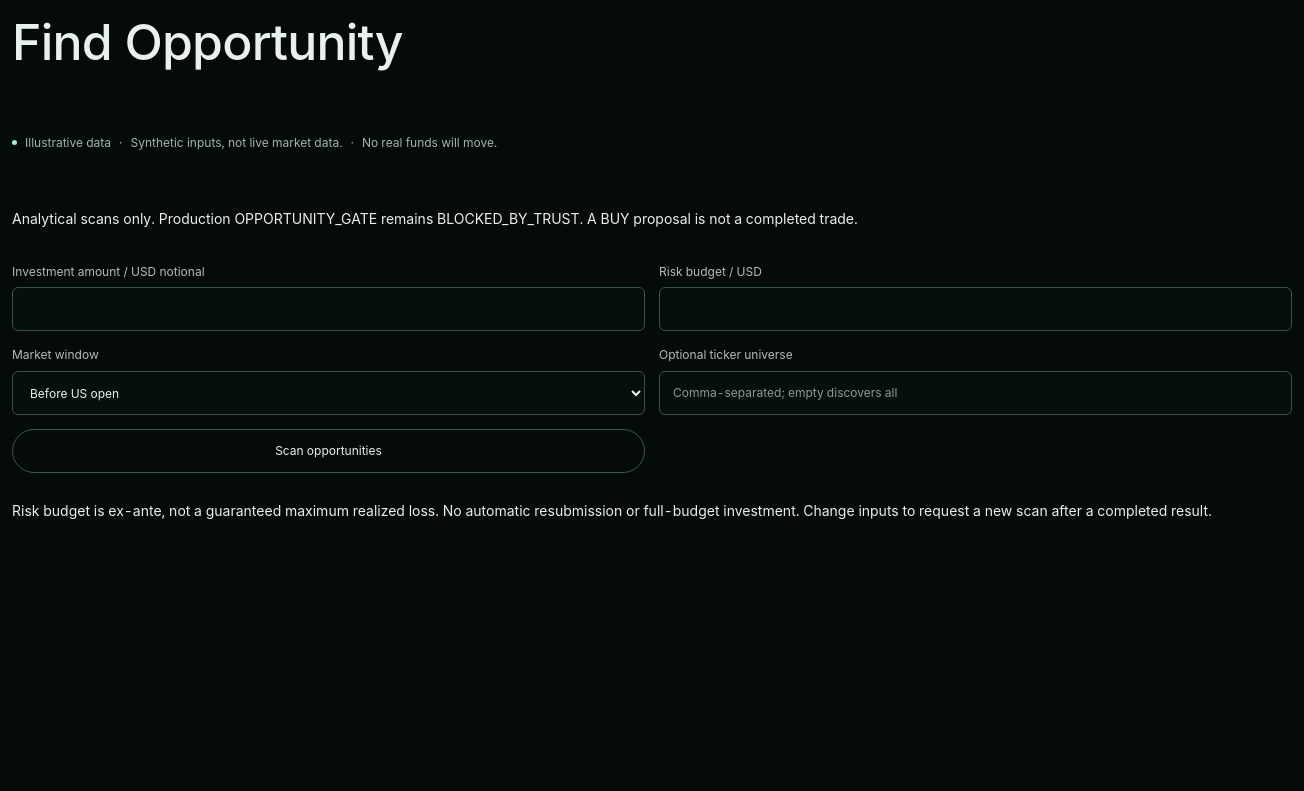
Test case: Phase 15 backend-authoritative pages › retains a scan identity on uncertain retry and prevents double click submission
Type "100" into the field labelled "Investment amount / USD notional".
click(328, 309); type("100")  # box 12,287 -> 645,331
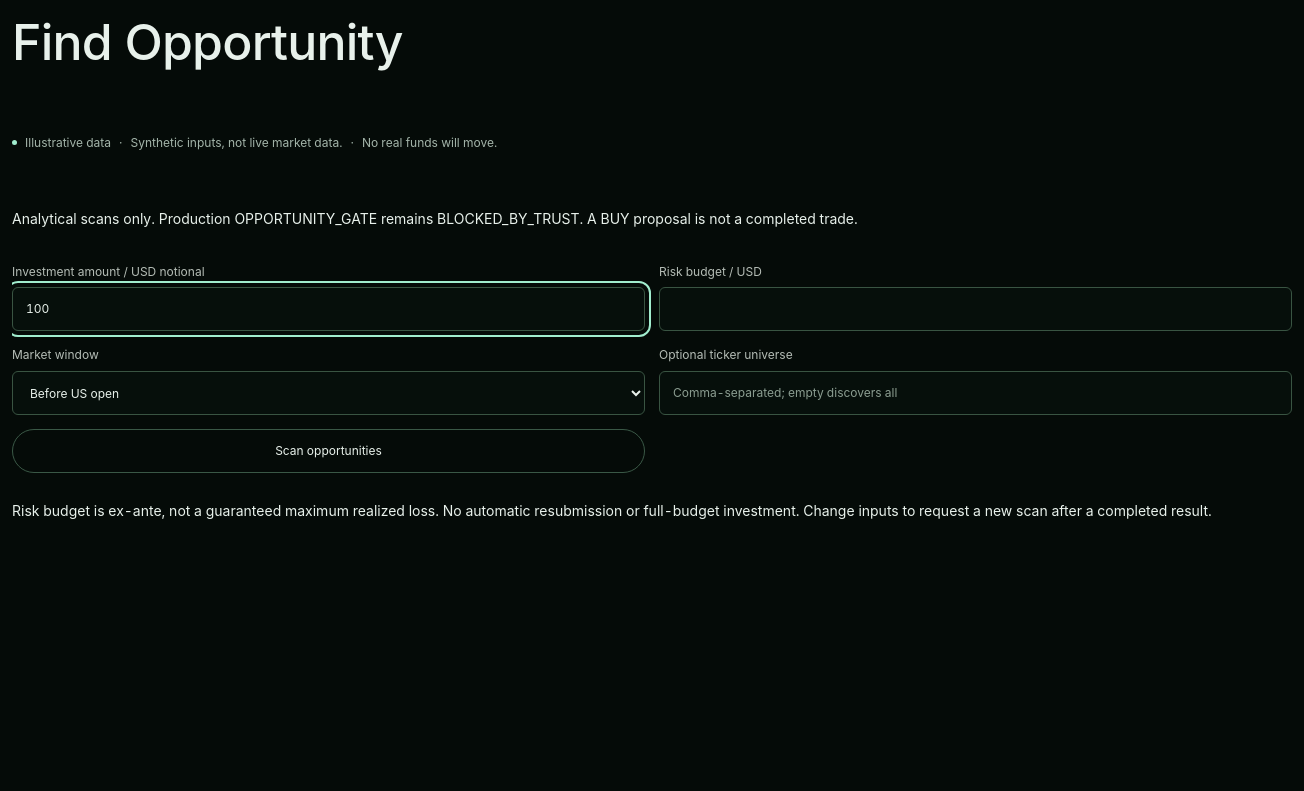
Type "10" into the field labelled "Risk budget / USD".
click(976, 309); type("10")  # box 659,287 -> 1292,331
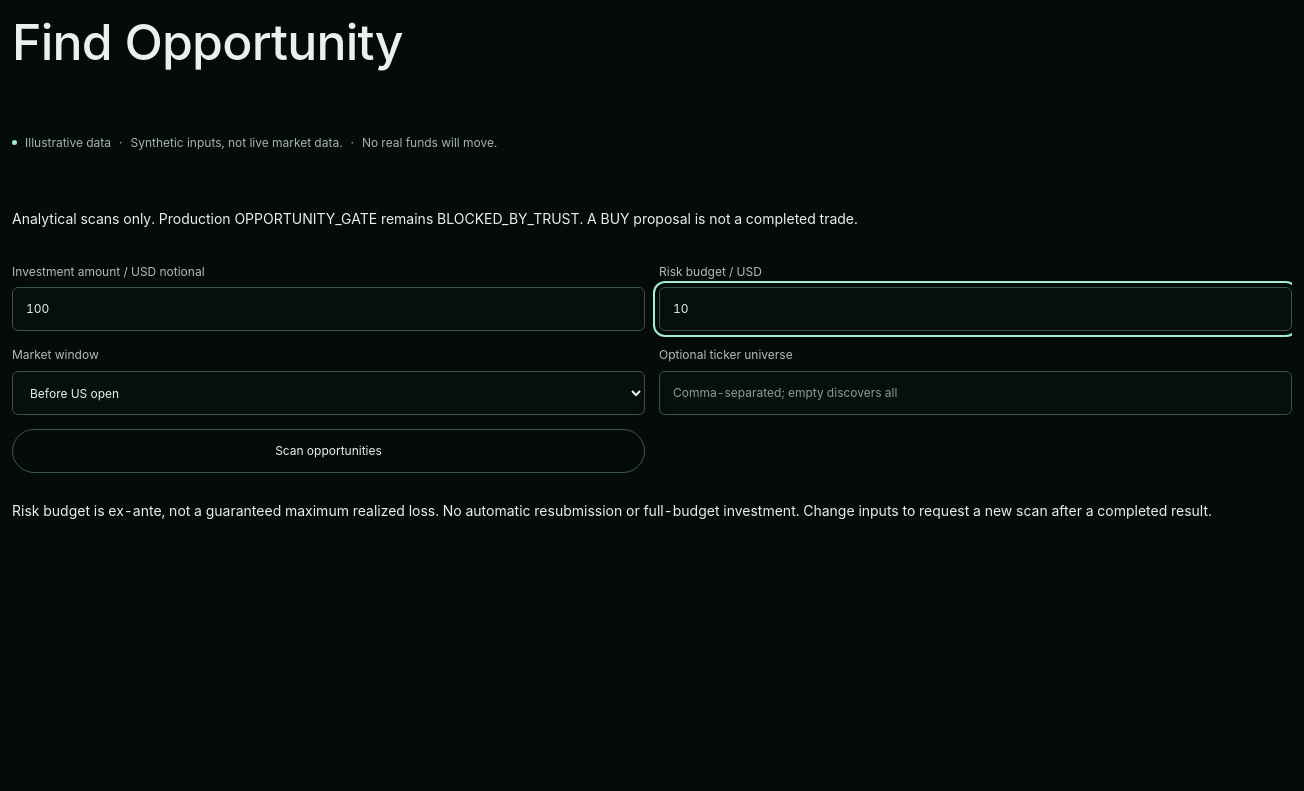
Click the button "Scan opportunities".
click(328, 451)  # box 12,429 -> 645,473
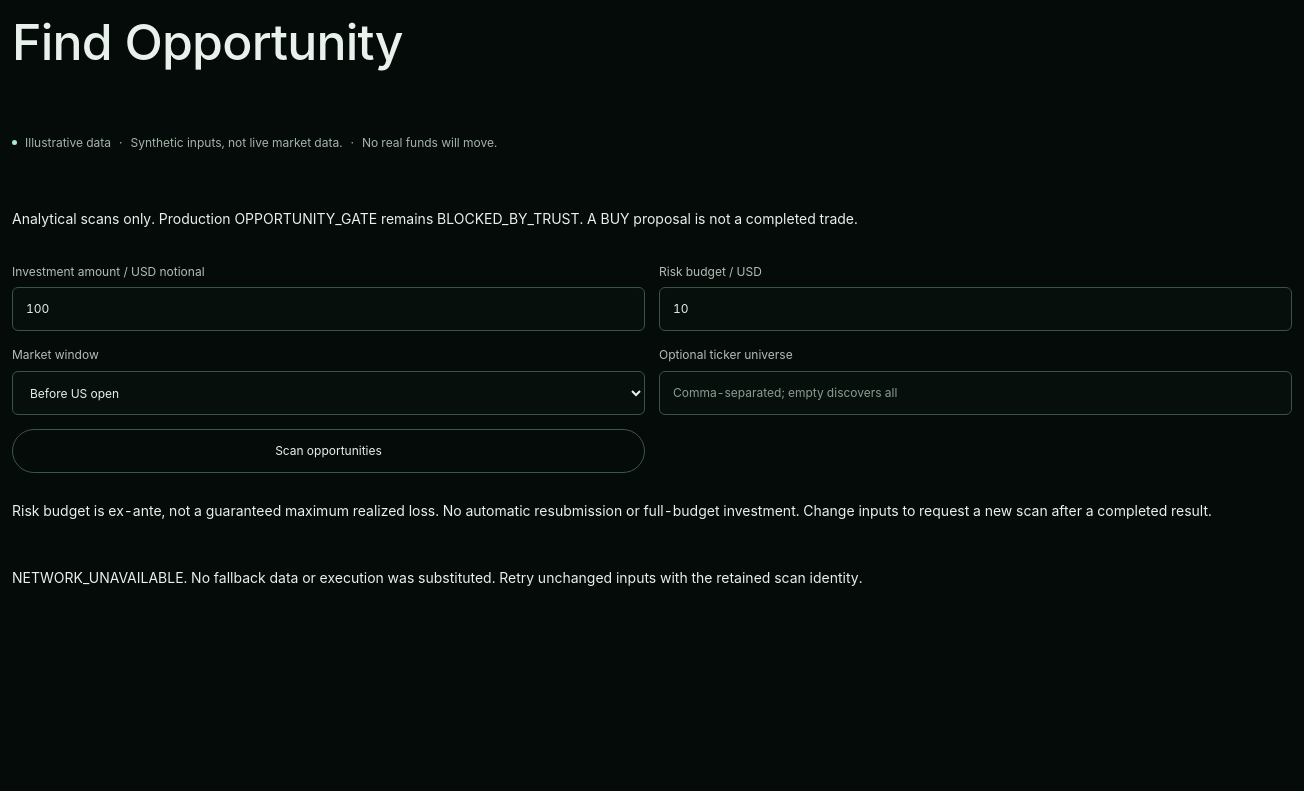
expect the message is shown: met, box 12,569 -> 862,586
Double-click the button "Scan opportunities".
double_click(328, 451)  # box 12,429 -> 645,473
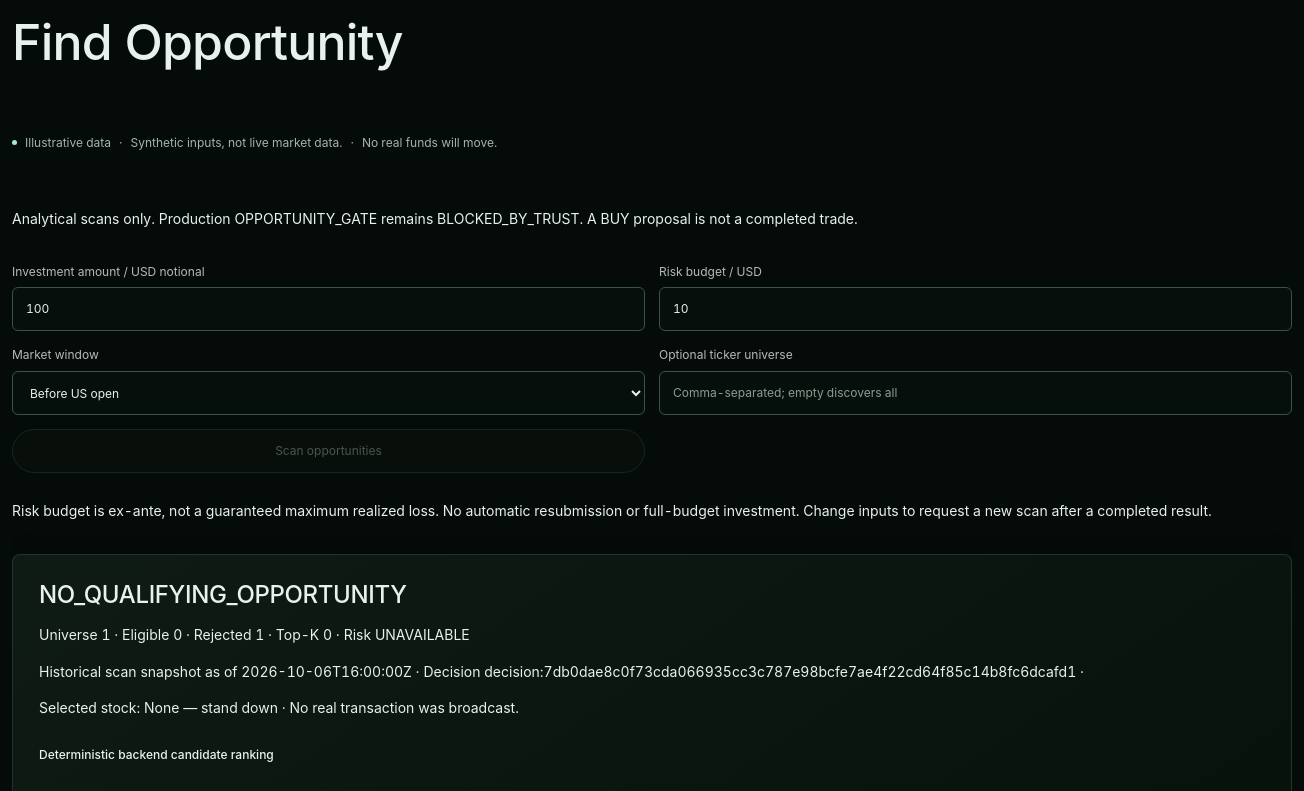
expect the heading "NO_QUALIFYING_OPPORTUNITY" is shown: met, box 39,580 -> 407,609
